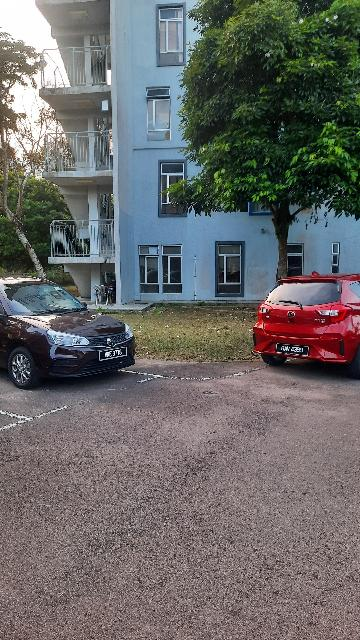License_Plate: (100, 348, 131, 359)
car: (1, 270, 145, 394), (248, 269, 360, 377)
